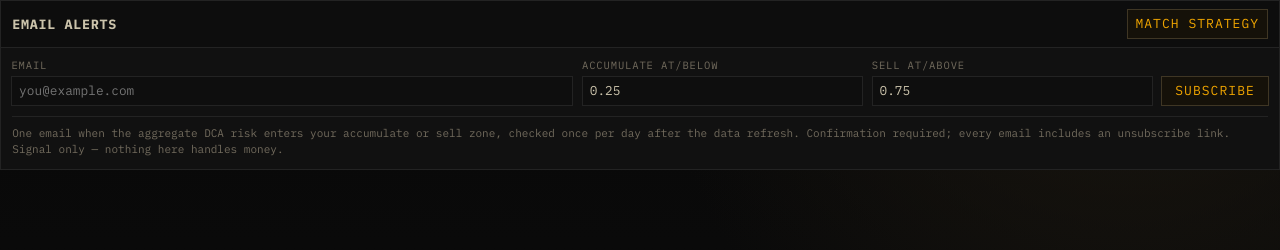
it: AlertsSignupPanel › posts the subscription and shows the server message
Type "user@example.com" into the field labelled "Email". click: (292, 91)
box: left=11, top=76, right=573, bottom=106
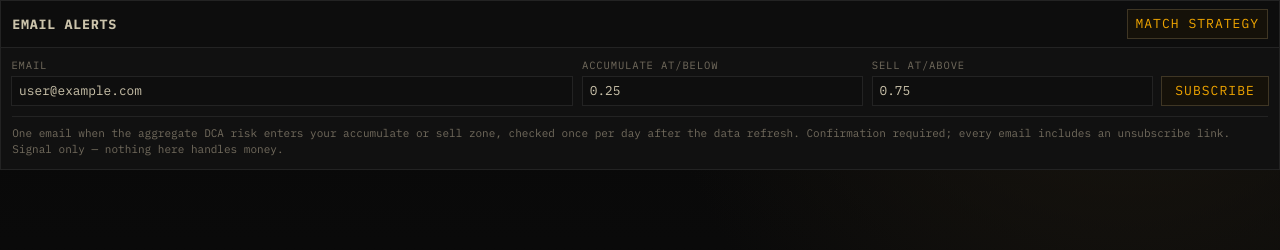
Click the button "Subscribe". click: click(1215, 91)
box: left=1162, top=76, right=1269, bottom=106
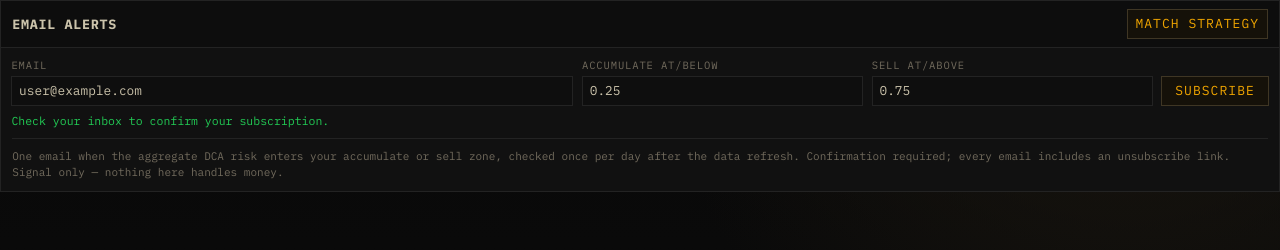
Expected: the message shows "Check your inbox", left=11, top=113, right=329, bottom=128
